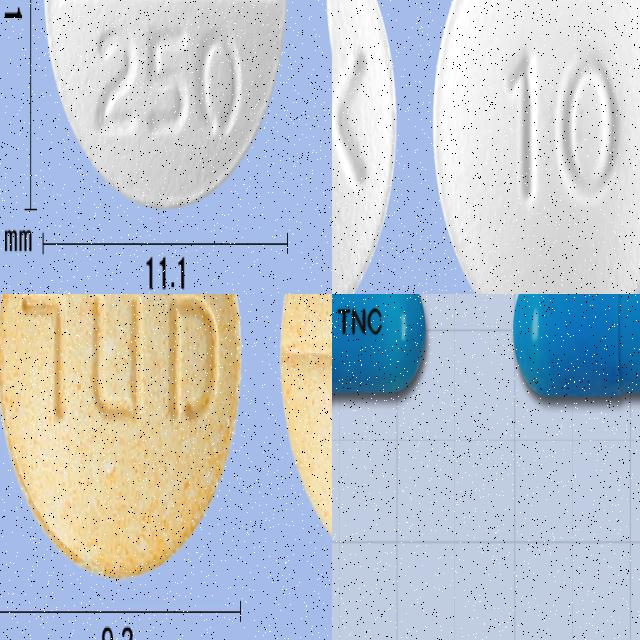Doxymedi: (0, 294, 243, 581)
Lenomid: (435, 0, 640, 294), (332, 0, 395, 294)
Triumeq Tab: (513, 294, 640, 396), (332, 294, 426, 399)
Youngil Clarithromycin Tab: (42, 0, 288, 211)
